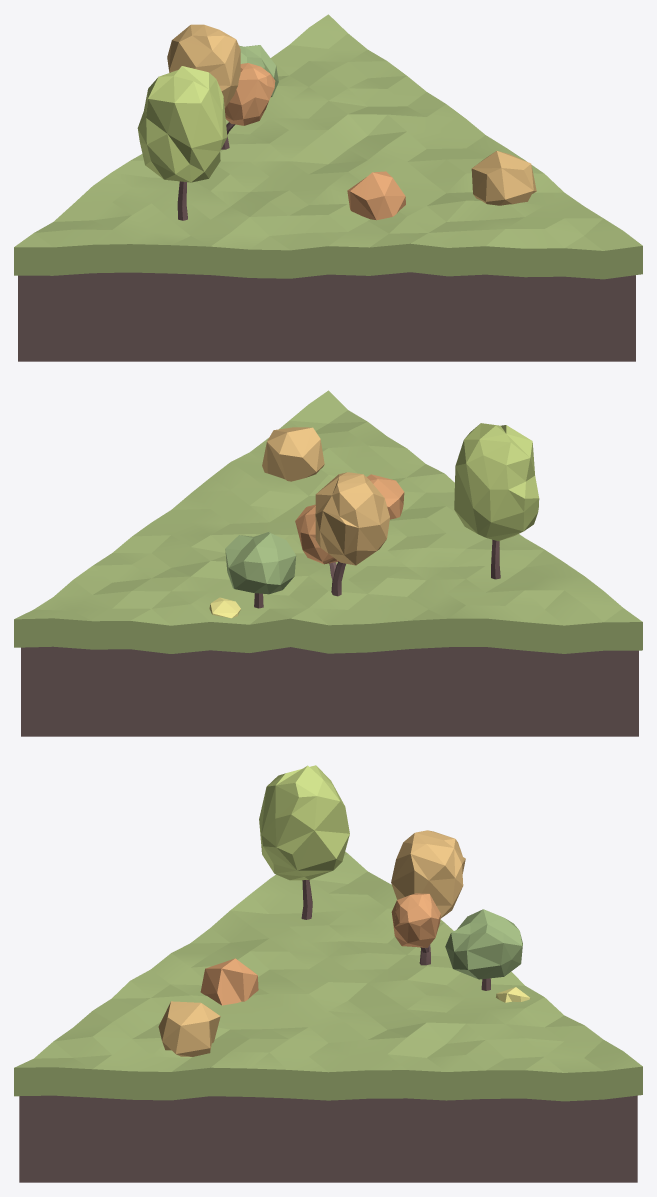
File: TILE_02_03_Autumn.fbx
3 views of the same model, one above another, from view 1: azimuth 30°, elevation 25°; view 2: azimuth 150°, elevation 25°; view 3: azimuth 270°, elevation 25° (orthographic).
Visible parts, largest first — view 1: TILESURFACE14 (1), TILE14, pCube5, pCube6, bush1, pCube7, bush2, pPlatonic1; view 2: TILESURFACE14 (1), TILE14, pCube5, pCube6, pPlatonic1, bush1, pCube7, bush2, bush3; view 3: TILESURFACE14 (1), TILE14, pCube5, pCube6, pPlatonic1, bush1, pCube7, bush2.
Boxes of the visible parts, <box> form: TILESURFACE14 (1): <box>14,14,642,279</box>; TILE14: <box>18,272,635,361</box>; pCube5: <box>137,66,227,182</box>; pCube6: <box>167,24,240,108</box>; bush1: <box>471,151,536,205</box>; pCube7: <box>225,63,275,125</box>; bush2: <box>347,171,405,220</box>; pPlatonic1: <box>239,45,278,96</box>; TILESURFACE14 (1): <box>14,390,642,653</box>; TILE14: <box>21,646,638,736</box>; pCube5: <box>454,423,539,541</box>; pCube6: <box>315,472,389,565</box>; pPlatonic1: <box>225,532,296,594</box>; bush1: <box>262,427,324,481</box>; pCube7: <box>295,504,338,564</box>; bush2: <box>367,474,404,519</box>; bush3: <box>209,597,240,618</box>; TILESURFACE14 (1): <box>14,851,642,1101</box>; TILE14: <box>19,1095,637,1182</box>; pCube5: <box>259,765,349,880</box>; pCube6: <box>391,830,465,918</box>; pPlatonic1: <box>445,909,522,979</box>; bush1: <box>158,1001,220,1056</box>; pCube7: <box>391,893,440,947</box>; bush2: <box>200,958,258,1005</box>.
Bounding box in the file's own units: 153 × 82.23 × 176.
